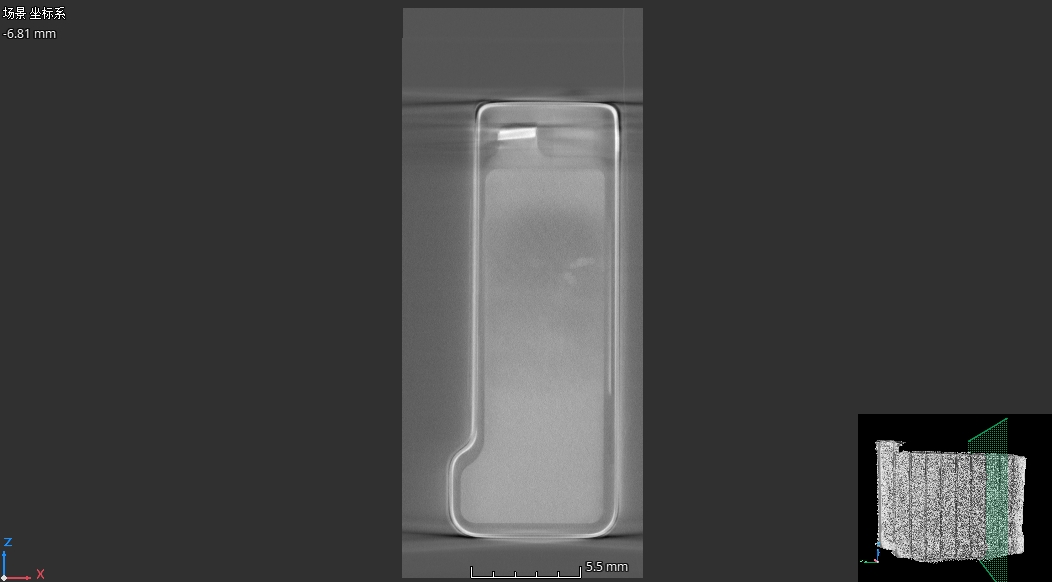light: (569, 256, 597, 270), (564, 271, 578, 286)
